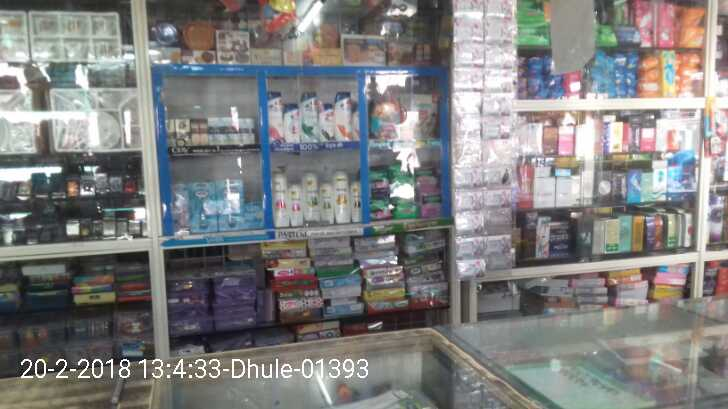venus: (189, 183, 220, 232), (220, 181, 244, 232), (247, 201, 263, 226)
